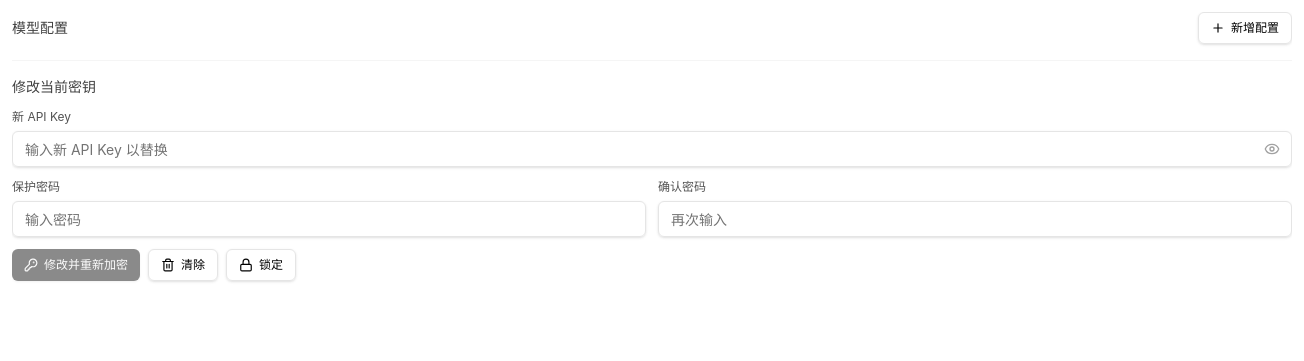
Test: APISettings - Mode C: unlocked with API key › saves a new API key with password
In the password field labelled "新 API Key": (652, 149) [12,131,1292,167], type "sk-new-key"
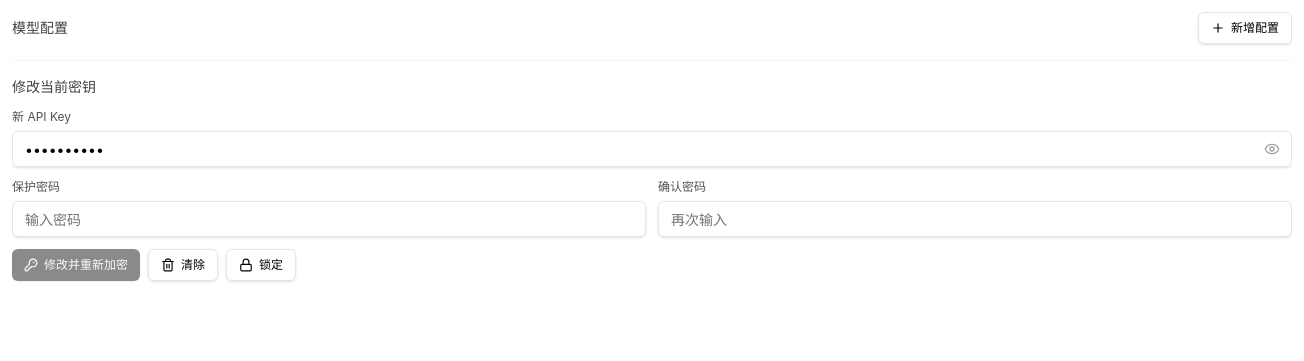
In the password field labelled "保护密码": (329, 219) [12,201,646,237], type "NewPass123"
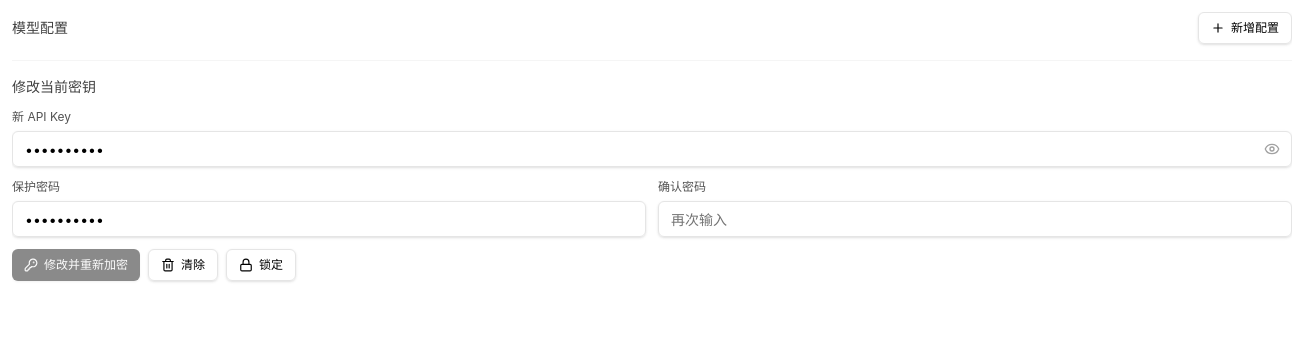
In the password field labelled "确认密码": (975, 219) [658,201,1292,237], type "NewPass123"
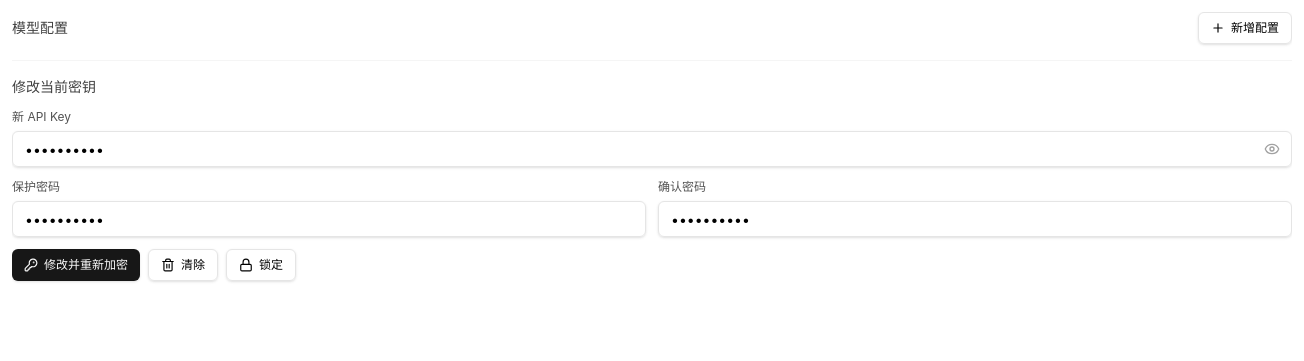
Click the button "修改并重新加密": (76, 265) [12,249,140,281]
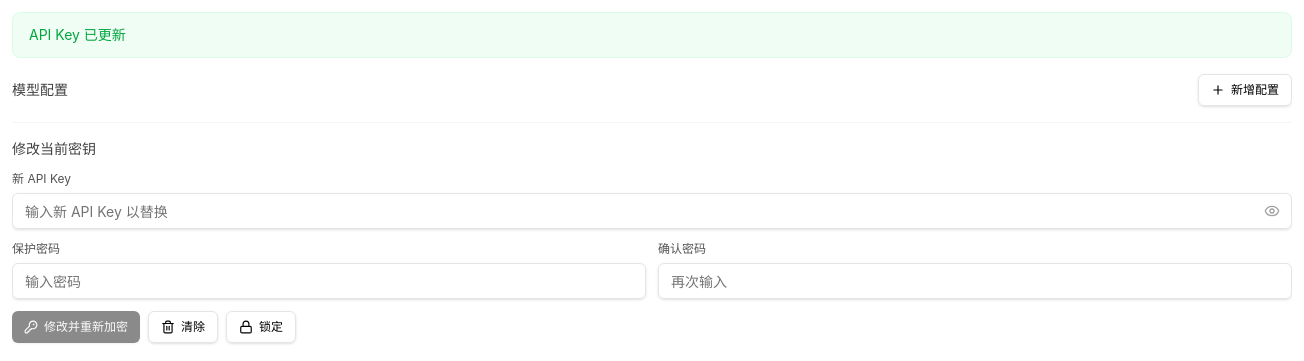
Check: the text "API Key 已更新" is shown, box [12,12,1292,58]
